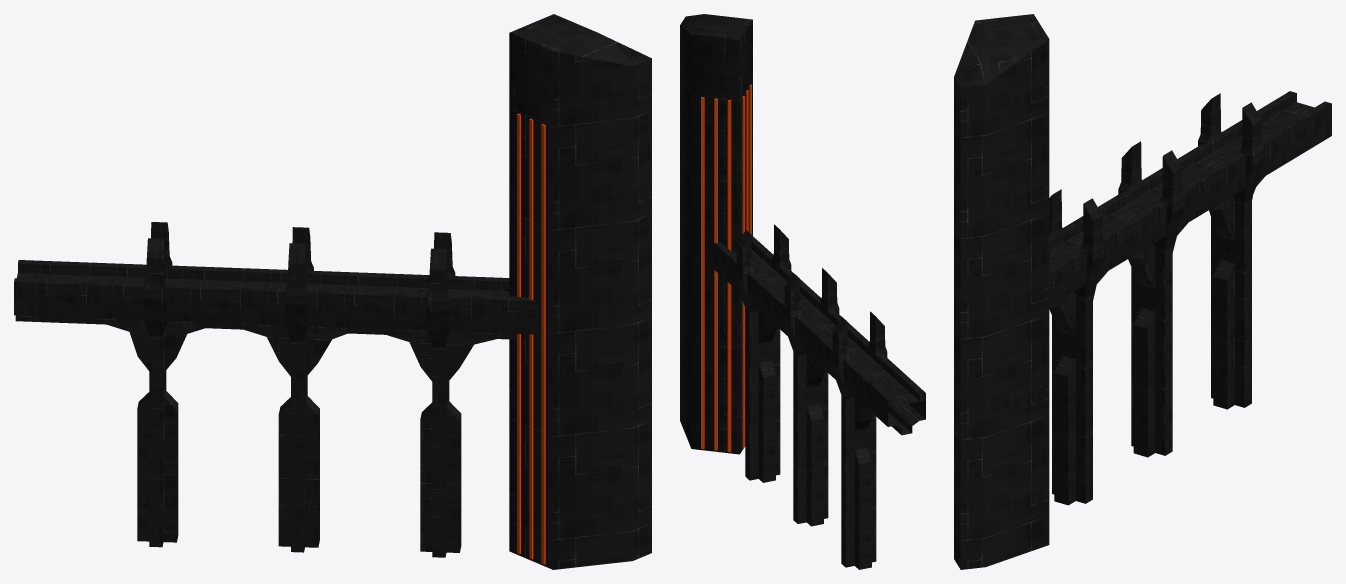
Rendered from Pont.FBX.
3 views of the same model, side by side, from view 1: azimuth 30°, elevation 25°; view 2: azimuth 150°, elevation 25°; view 3: azimuth 270°, elevation 25° (orthographic). The views are drawn at different scales.
Visible parts, largest first — view 1: Pont_001 (×2); view 2: Pont_001 (×2); view 3: Pont_001.
Boxes of the visible parts, bbox=[...] form: Pont_001 (×2): bbox=[14, 14, 651, 569]; Pont_001 (×2): bbox=[680, 14, 925, 569]; Pont_001: bbox=[954, 14, 1331, 569].
Bounding box in the file's own units: 4207 × 4444 × 3008.
